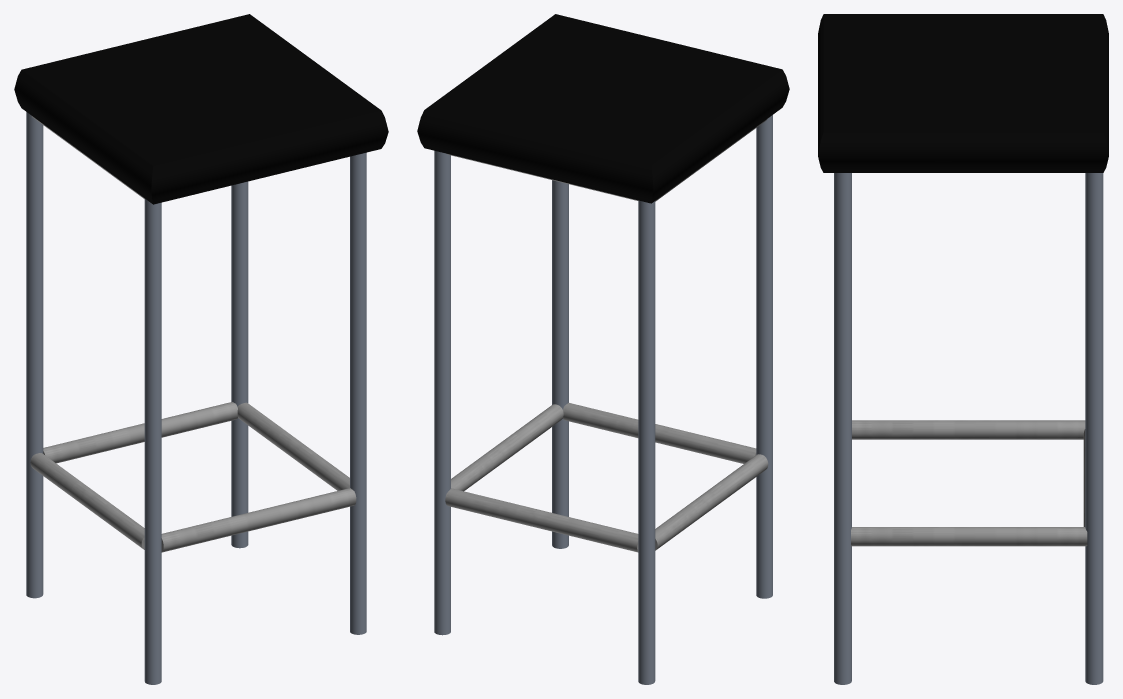
Rendered from Taburete1.fbx.
3 renders of one model, left to right at view 1: azimuth 30°, elevation 25°; view 2: azimuth 150°, elevation 25°; view 3: azimuth 270°, elevation 25°, orthographic. The views are drawn at different scales.
Parts seen in each view (by area): view 1: Component_11_1, Group2, Group5, Group3, Group4, Group8, Group9, Group7, Group6; view 2: Component_11_1, Group5, Group4, Group2, Group3, Group9, Group8, Group7, Group6; view 3: Component_11_1, Group4, Group3, Group6, Group7.
Boxes of the visible parts, left/top/right/bottom form: Component_11_1: left=14, top=14, right=388, bottom=204; Group2: left=144, top=198, right=161, bottom=684; Group5: left=26, top=112, right=43, bottom=598; Group3: left=350, top=152, right=366, bottom=634; Group4: left=231, top=181, right=248, bottom=548; Group8: left=161, top=488, right=356, bottom=552; Group9: left=43, top=402, right=237, bottom=463; Group7: left=30, top=453, right=144, bottom=549; Group6: left=237, top=402, right=349, bottom=490; Component_11_1: left=417, top=14, right=789, bottom=203; Group5: left=638, top=200, right=655, bottom=684; Group4: left=434, top=150, right=450, bottom=635; Group2: left=756, top=115, right=772, bottom=598; Group3: left=552, top=180, right=568, bottom=548; Group9: left=445, top=488, right=638, bottom=552; Group8: left=563, top=403, right=756, bottom=463; Group7: left=655, top=454, right=768, bottom=550; Group6: left=451, top=404, right=563, bottom=491; Component_11_1: left=818, top=14, right=1108, bottom=172; Group4: left=1085, top=173, right=1103, bottom=684; Group3: left=834, top=173, right=851, bottom=684; Group6: left=851, top=527, right=1087, bottom=546; Group7: left=852, top=420, right=1085, bottom=439.
Size of the model in its own units: 11.99 by 25.29 by 11.99.
